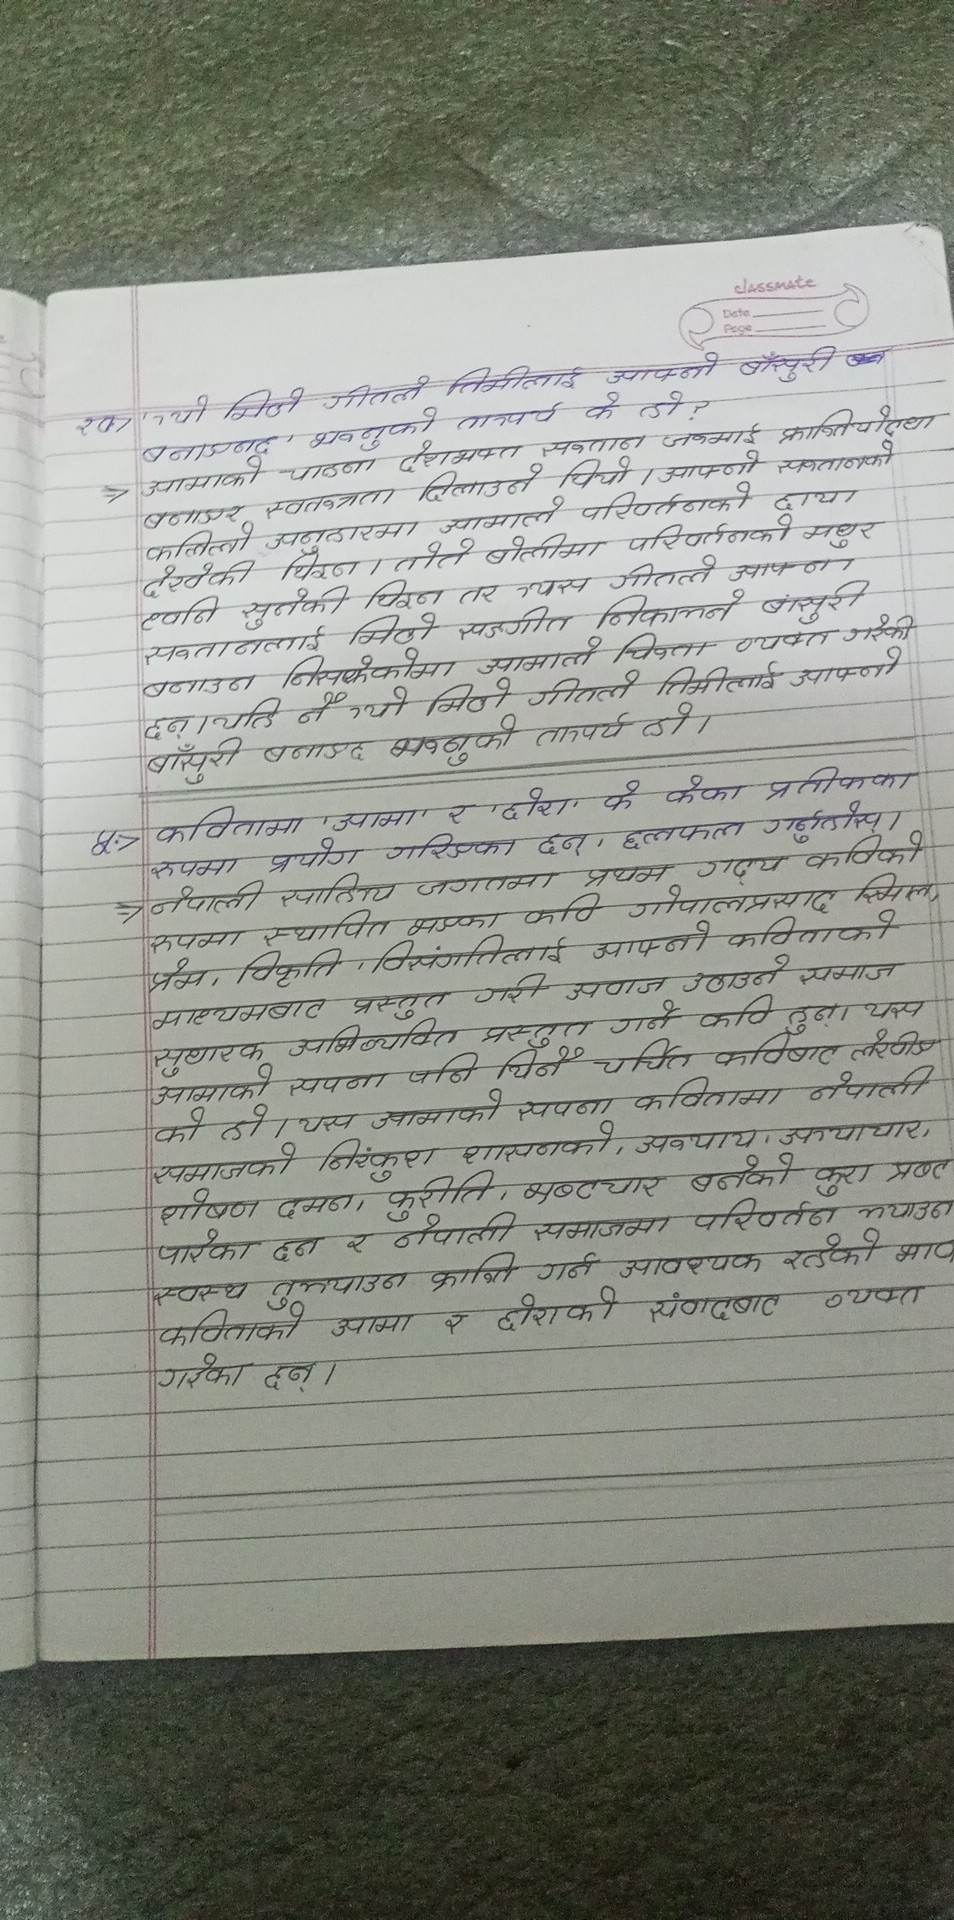text: (367, 931, 573, 971), (626, 883, 843, 921), (141, 624, 331, 665), (726, 911, 903, 951), (148, 993, 329, 1031), (284, 1019, 458, 1058), (387, 718, 518, 769), (151, 804, 306, 846), (280, 654, 454, 691), (460, 1123, 615, 1163), (152, 1142, 305, 1183), (580, 484, 754, 519), (596, 589, 748, 629), (632, 1075, 783, 1116), (367, 1089, 508, 1131), (262, 1273, 415, 1313), (495, 1287, 621, 1333), (157, 1307, 307, 1344), (627, 516, 798, 549), (767, 763, 922, 798), (789, 645, 903, 693), (389, 1210, 520, 1250), (321, 1138, 443, 1180), (762, 798, 881, 842), (263, 519, 421, 552), (691, 1195, 838, 1231), (387, 1172, 494, 1220), (242, 584, 351, 631), (527, 670, 648, 711), (645, 1289, 783, 1326), (522, 1169, 663, 1205), (258, 909, 394, 945), (306, 411, 434, 451), (805, 831, 927, 872), (447, 362, 580, 399), (434, 495, 566, 531), (759, 580, 869, 624), (616, 1247, 763, 1280), (687, 1149, 794, 1194), (143, 738, 244, 786), (806, 1064, 931, 1102), (589, 921, 713, 959), (776, 405, 903, 442), (473, 638, 599, 675), (413, 465, 543, 501), (618, 817, 748, 852), (142, 458, 263, 496), (678, 953, 792, 993), (414, 868, 558, 900), (603, 347, 723, 384), (783, 1226, 883, 1271), (774, 440, 898, 476), (277, 871, 400, 907), (775, 1116, 923, 1146), (137, 433, 274, 467), (156, 1185, 263, 1227), (531, 1211, 677, 1242), (483, 534, 606, 569), (383, 831, 516, 864), (425, 1247, 516, 1294), (712, 1033, 838, 1068), (661, 662, 779, 699), (149, 1038, 260, 1078), (738, 343, 840, 384), (140, 560, 251, 598), (605, 553, 716, 591), (235, 948, 340, 987), (456, 606, 574, 640), (146, 880, 265, 915), (396, 440, 523, 471), (156, 1351, 252, 1392), (633, 1127, 758, 1158), (261, 487, 396, 517), (152, 1071, 271, 1104), (821, 1281, 926, 1318), (535, 708, 633, 747), (594, 1038, 692, 1078), (153, 1229, 257, 1265), (325, 372, 427, 408), (655, 449, 761, 484), (265, 834, 359, 871), (696, 849, 786, 887), (479, 1016, 595, 1046), (497, 1044, 582, 1085), (405, 902, 506, 936), (517, 1089, 614, 1123), (145, 528, 249, 560), (425, 676, 512, 714), (849, 1025, 936, 1063), (454, 400, 562, 431), (731, 556, 854, 583), (347, 986, 445, 1019), (614, 632, 716, 662), (284, 1069, 396, 1097), (141, 672, 257, 699), (344, 611, 438, 644), (218, 387, 309, 421), (138, 502, 249, 530), (258, 740, 374, 767), (471, 969, 549, 1007), (142, 926, 241, 955), (498, 784, 572, 823), (663, 774, 749, 807), (140, 596, 220, 632), (392, 541, 475, 576), (699, 996, 779, 1031), (803, 517, 885, 551), (854, 868, 934, 902), (565, 973, 666, 1000), (213, 694, 280, 735), (403, 1052, 479, 1087), (525, 891, 600, 927), (274, 1189, 358, 1221), (539, 433, 653, 457), (145, 853, 242, 880), (661, 421, 763, 447), (796, 960, 903, 984), (151, 1278, 251, 1304), (735, 628, 825, 656), (855, 1196, 954, 1222), (607, 1003, 681, 1037), (533, 1247, 596, 1286), (364, 580, 452, 609), (773, 484, 863, 511), (280, 552, 360, 583), (557, 456, 631, 489), (844, 613, 915, 645), (783, 998, 836, 1040), (329, 808, 416, 834), (280, 458, 381, 480), (579, 864, 674, 888), (328, 1311, 418, 1336), (812, 1163, 876, 1198), (149, 1107, 206, 1145), (514, 574, 593, 601), (889, 1153, 952, 1187), (147, 961, 207, 996), (265, 1358, 317, 1396), (893, 1237, 954, 1269), (218, 1104, 267, 1142), (858, 998, 933, 1022), (642, 703, 692, 738), (299, 1106, 359, 1135), (291, 692, 347, 724), (534, 827, 587, 860), (599, 778, 640, 819), (365, 686, 413, 720), (142, 711, 195, 742), (639, 388, 685, 421), (272, 1234, 321, 1264), (583, 391, 625, 422), (169, 396, 208, 429), (456, 580, 498, 609), (76, 414, 115, 442), (86, 828, 118, 857), (343, 1229, 374, 1259), (442, 1307, 469, 1340), (445, 803, 476, 824)
